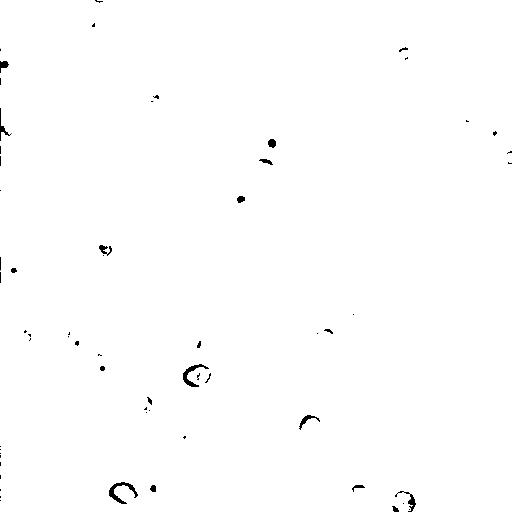micro-algae: (142, 327, 235, 402), (157, 411, 214, 463), (442, 274, 492, 324), (301, 281, 346, 330), (123, 174, 166, 216), (280, 370, 321, 407), (443, 0, 502, 24), (130, 467, 168, 504), (458, 319, 495, 357), (411, 197, 448, 233), (64, 318, 99, 356), (73, 7, 108, 39), (0, 106, 29, 139), (341, 303, 376, 330), (253, 127, 284, 156), (97, 103, 128, 131), (480, 115, 507, 147), (257, 191, 284, 222), (0, 142, 28, 171), (298, 411, 325, 441), (182, 363, 212, 389), (107, 482, 138, 505), (180, 332, 207, 358), (1, 257, 27, 283), (14, 325, 40, 351), (250, 158, 276, 183), (132, 172, 155, 199), (265, 97, 290, 121), (262, 132, 286, 157), (390, 490, 417, 512), (140, 443, 164, 464), (132, 393, 153, 416), (348, 483, 370, 504), (91, 357, 113, 377), (228, 191, 252, 209), (314, 327, 335, 346), (456, 116, 475, 134), (96, 238, 113, 258), (0, 56, 15, 77), (171, 423, 188, 440), (394, 46, 413, 61), (448, 73, 464, 89), (503, 149, 512, 166), (371, 0, 392, 7), (0, 463, 7, 476), (93, 0, 107, 5)
